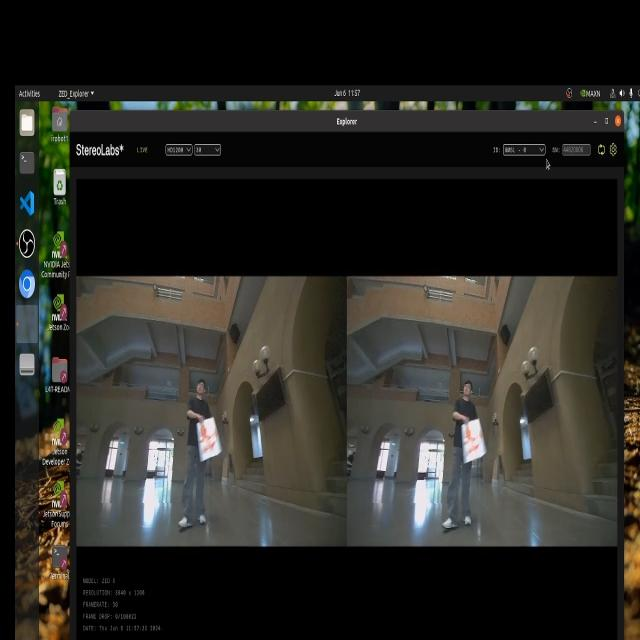red: (459, 425, 485, 466), (195, 422, 221, 454)
